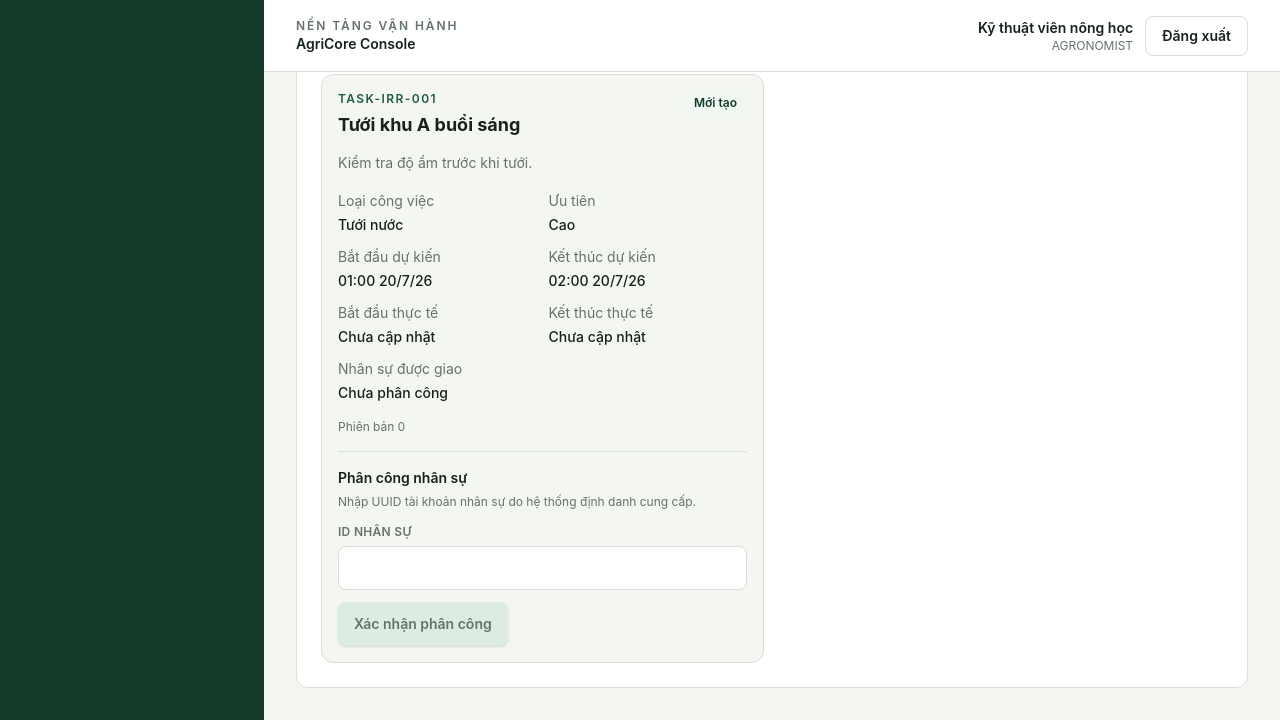
Scenario: work-task assignment access loss › hides cached tasks after assignment loses access and can revalidate permissions
The width and height of the screenshot is (1280, 720).
(page scrolled)
Expected: the heading "Tưới khu A buổi sáng" is shown, [338,111,520,139]
Type "10000000-0000-0000-0000-000000000019" into the field labelled "ID nhân sự" at (542,568), box [338,546,747,590]
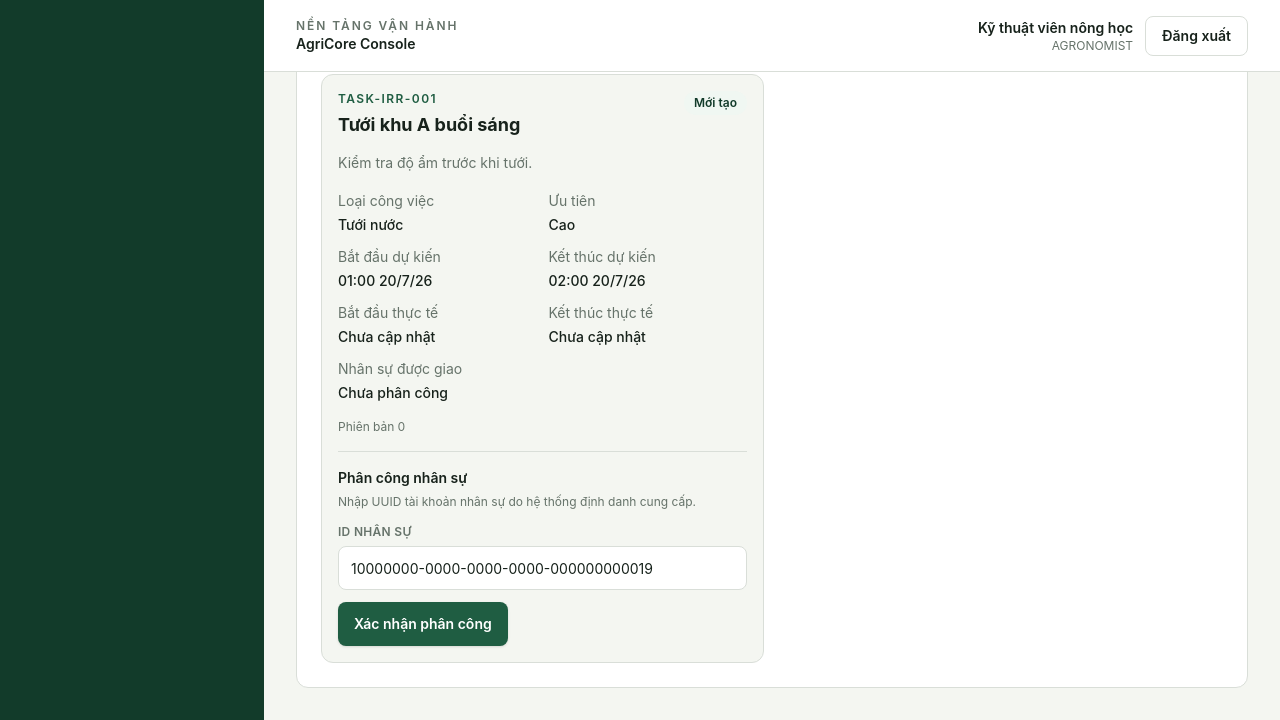
Click the button "Xác nhận phân công" at (423,624), box [338,602,508,646]
(page scrolled)
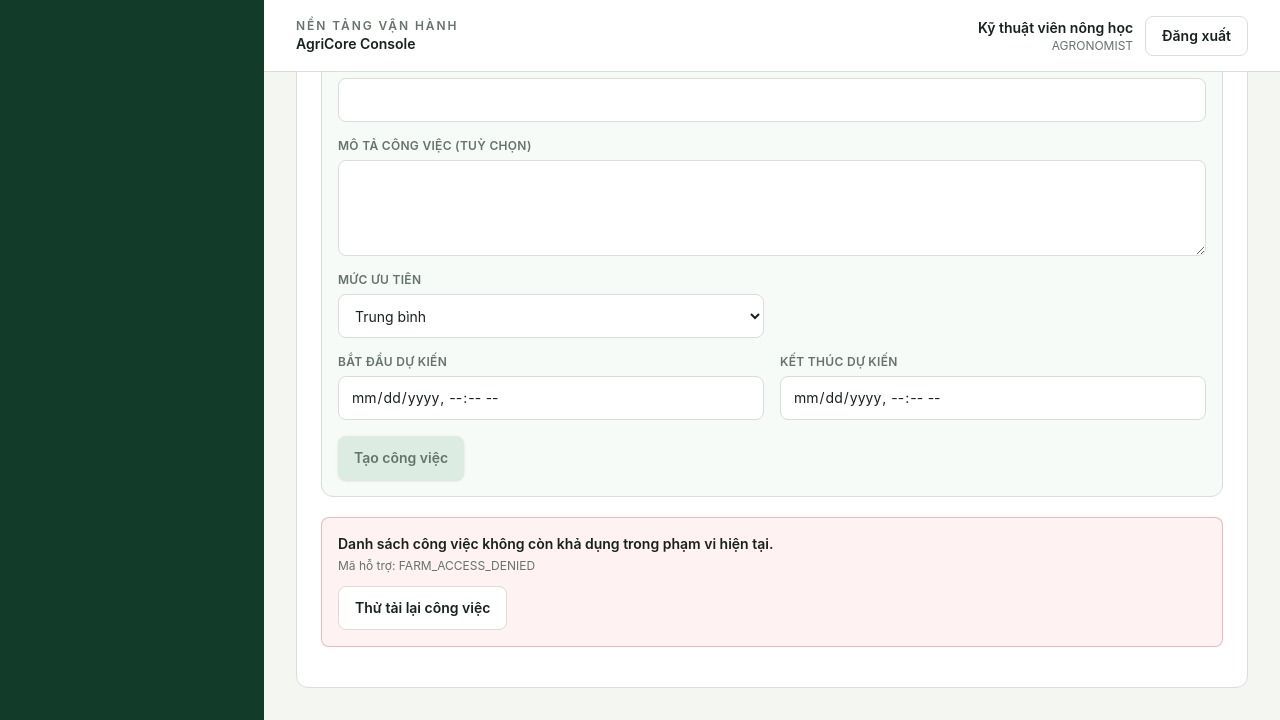
Now the message named "Không thể tải công việc" shows "FARM_ACCESS_DENIED", box [399,558,535,573]
Now the heading "Tưới khu A buổi sáng" is gone
Click the button "Thử tải lại công việc" at (423,608), box [338,586,507,630]
(page scrolled)
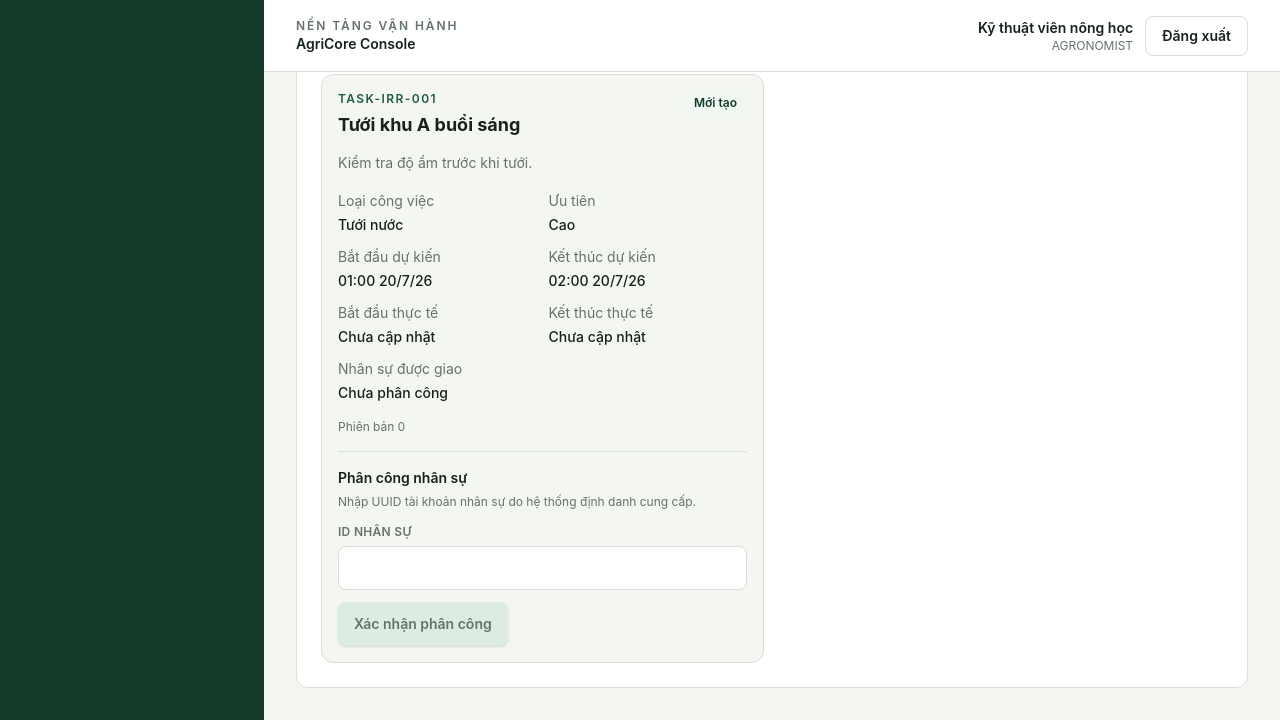
Now the heading "Tưới khu A buổi sáng" is shown, box [338,111,520,139]
